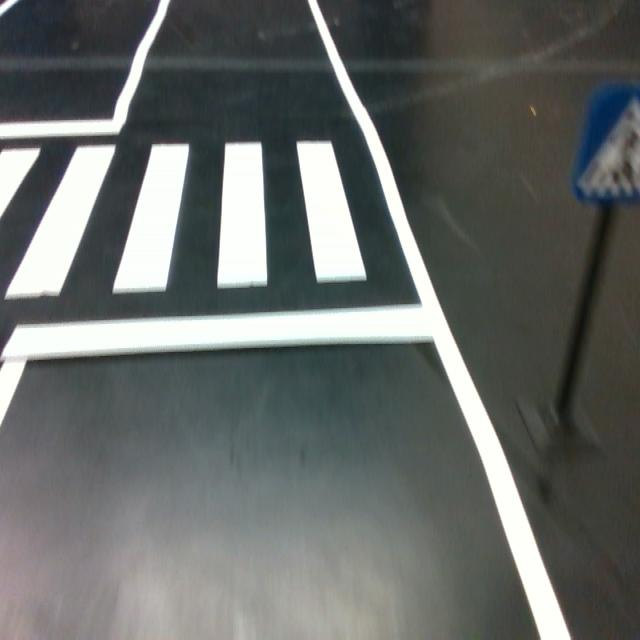crosswalk-sign: (570, 84, 640, 205)
